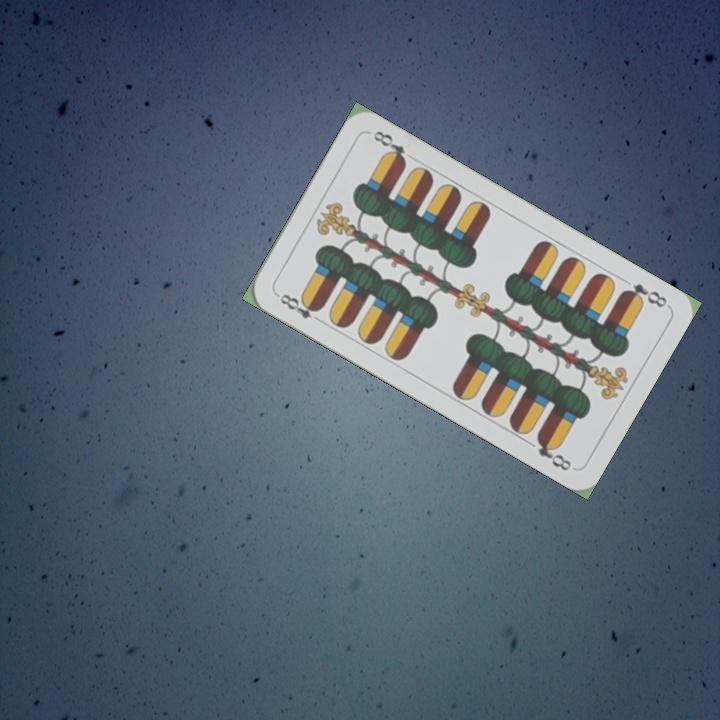E8: (272, 289, 326, 326), (617, 279, 670, 311)
